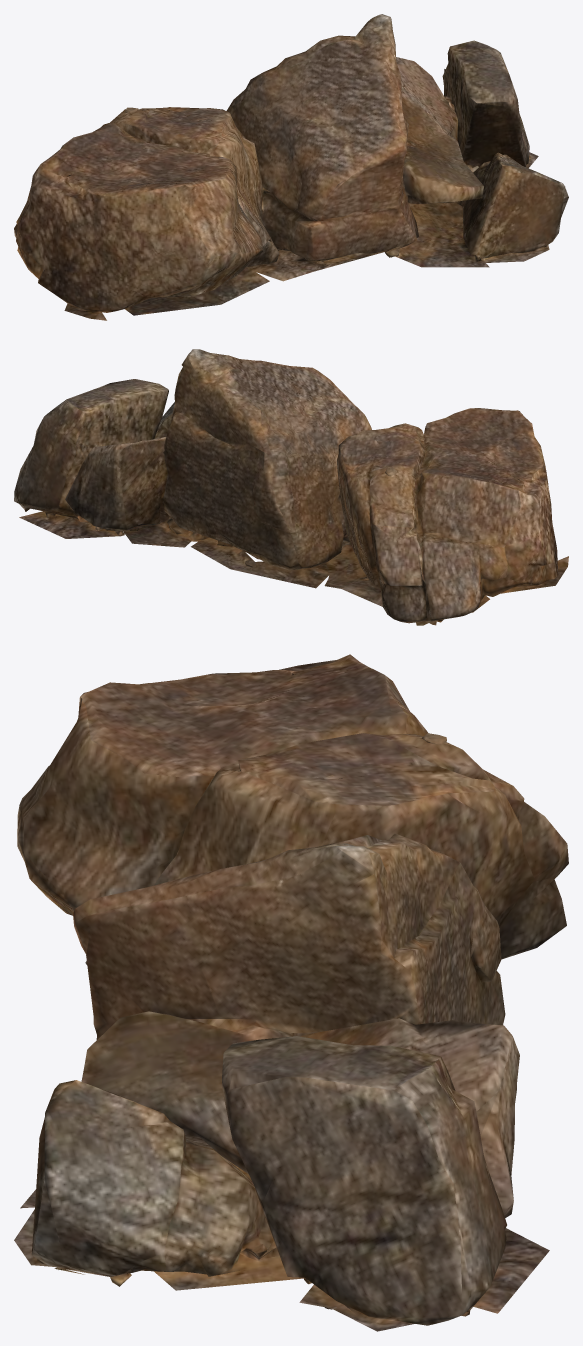
The model's file is namaqualand_boulder_02.glb.
3 views of the same model, one above another, from view 1: azimuth 30°, elevation 25°; view 2: azimuth 150°, elevation 25°; view 3: azimuth 270°, elevation 25° (orthographic). The views are drawn at different scales.
Parts seen in each view (by area): view 1: boulder_02; view 2: boulder_02; view 3: boulder_02.
Boxes of the visible parts, <box> form: boulder_02: <box>14,14,568,320</box>; boulder_02: <box>14,349,568,625</box>; boulder_02: <box>14,654,568,1331</box>.
Size of the model in its own units: 2.49 by 0.8735 by 1.23.
Materials: 1 (1 with a texture image).
